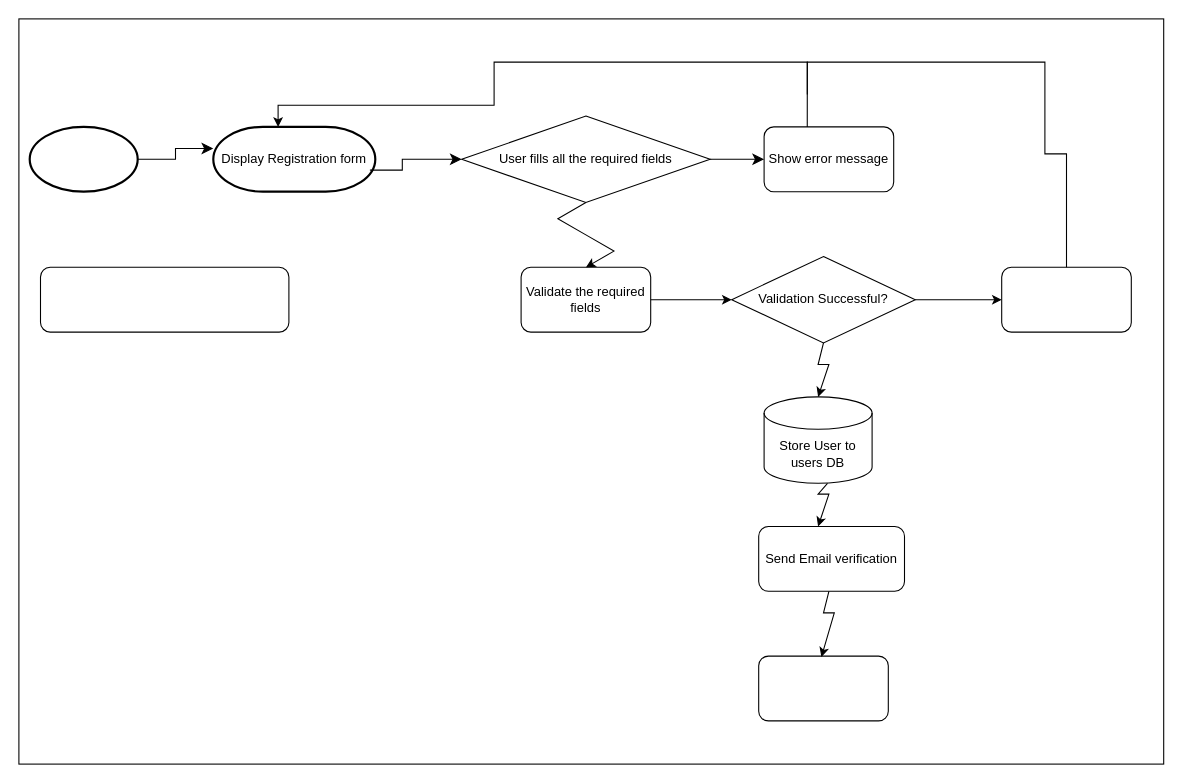
This 1183x783 diagram has some shape labels left out. The centre of each missing label's shape, as x and y in pixels:
Show validation Error: pixel 1066 299
Start: pixel 83 158
User registered: pixel 823 688
USER REGISTRATION DATA FLOW: pixel 164 299
